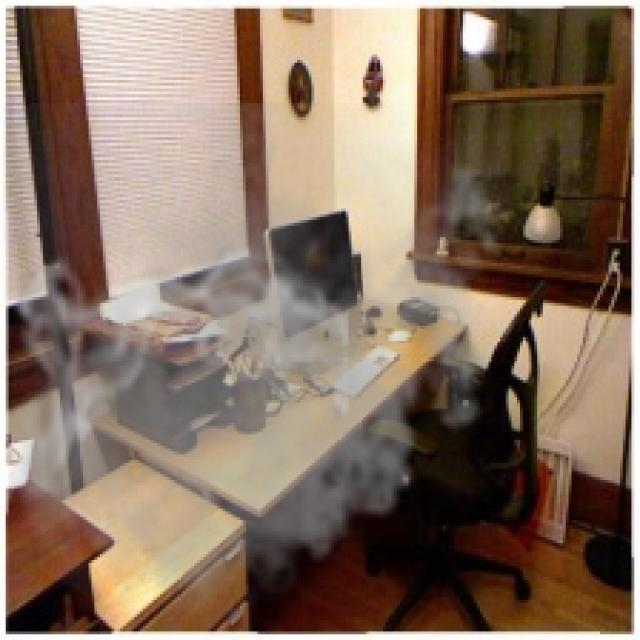smoke: (3, 103, 517, 634)
